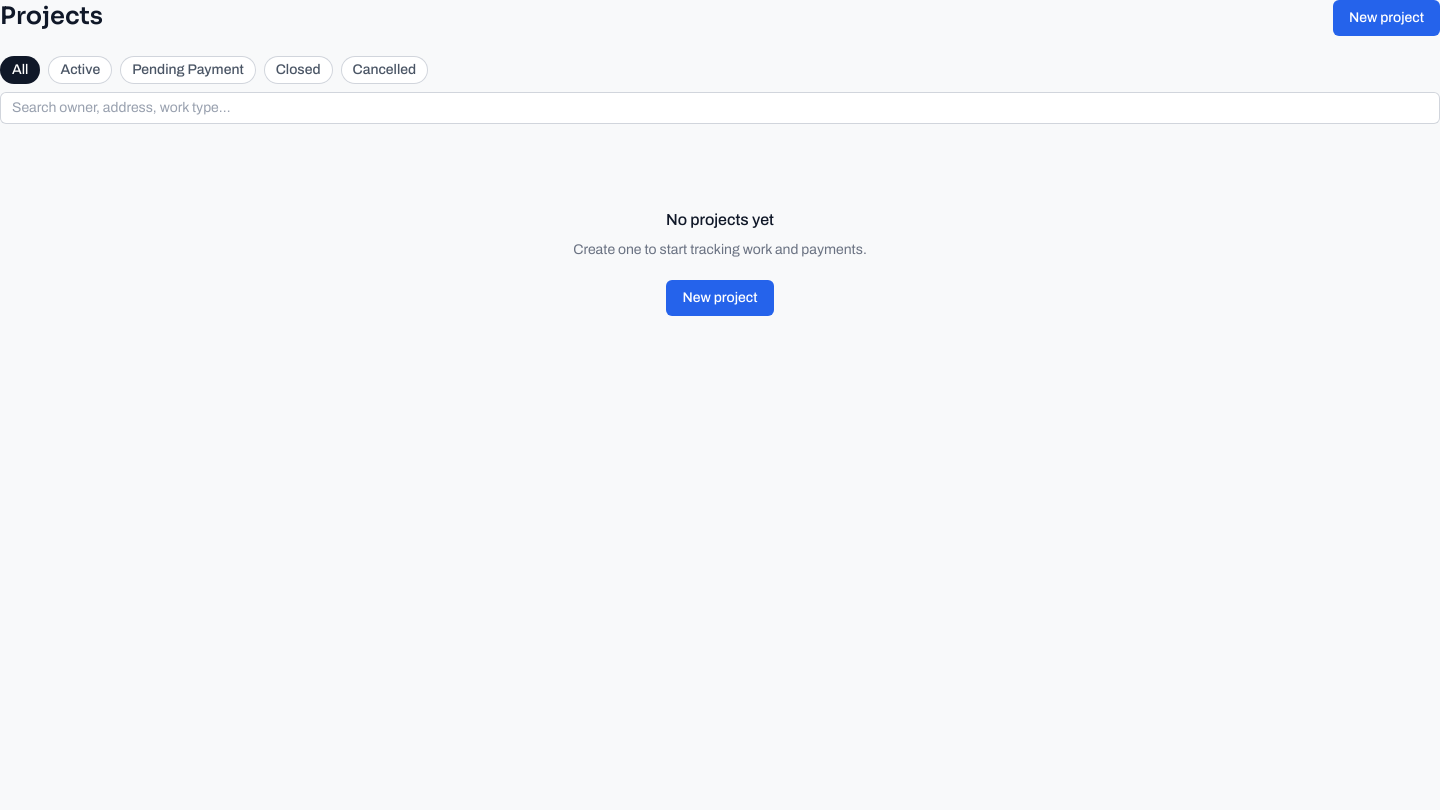
Test case: ProjectsListPage › creating › refuses a negative budget where it was typed
The width and height of the screenshot is (1440, 810).
Click the 1st button "New project": click(1386, 18) x1=1333 y1=0 x2=1439 y2=36
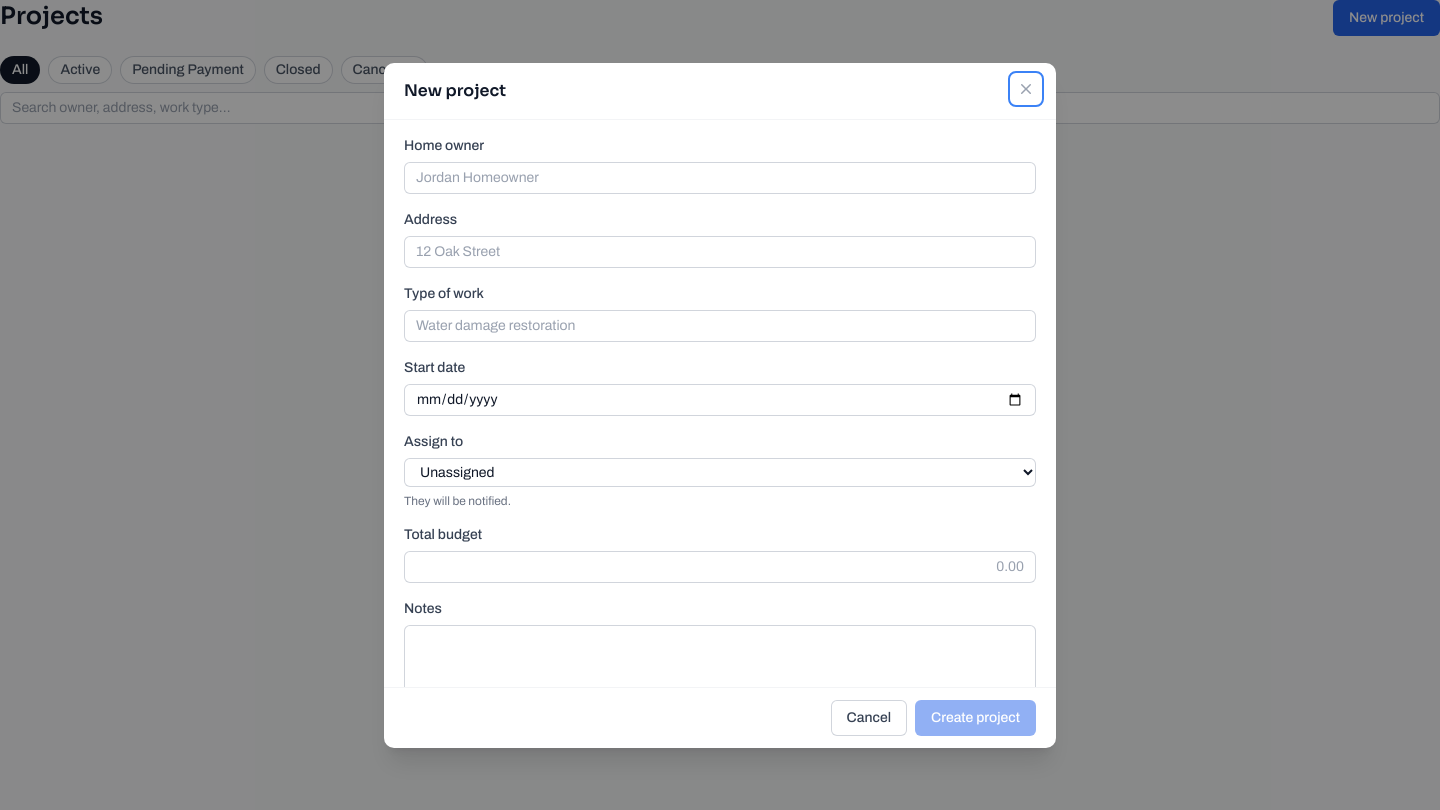
In the field labelled "Home owner": (720, 178) x1=404 y1=162 x2=1036 y2=194, type "Jordan"
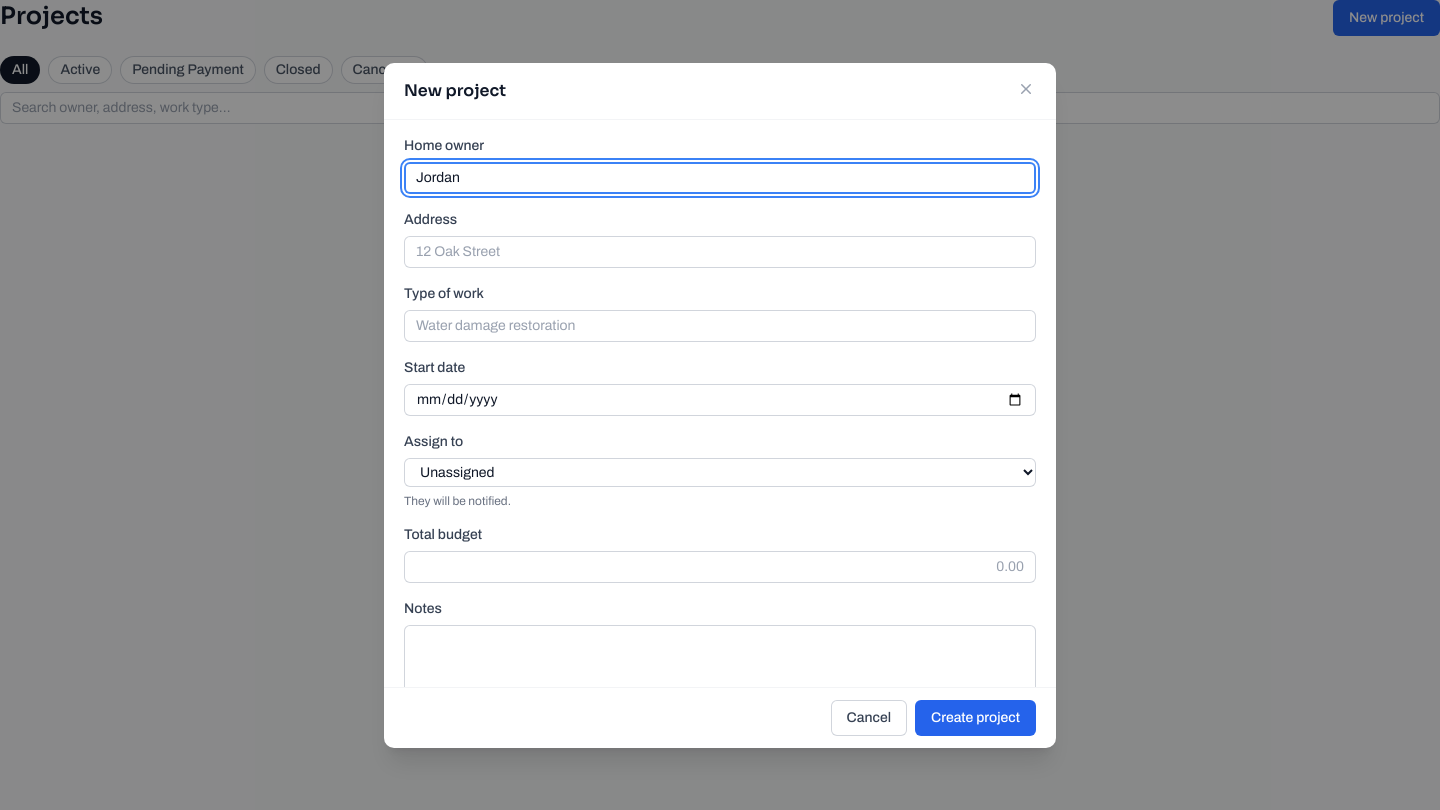
In the field labelled "Total budget": (720, 566) x1=404 y1=550 x2=1036 y2=582, type "-500"
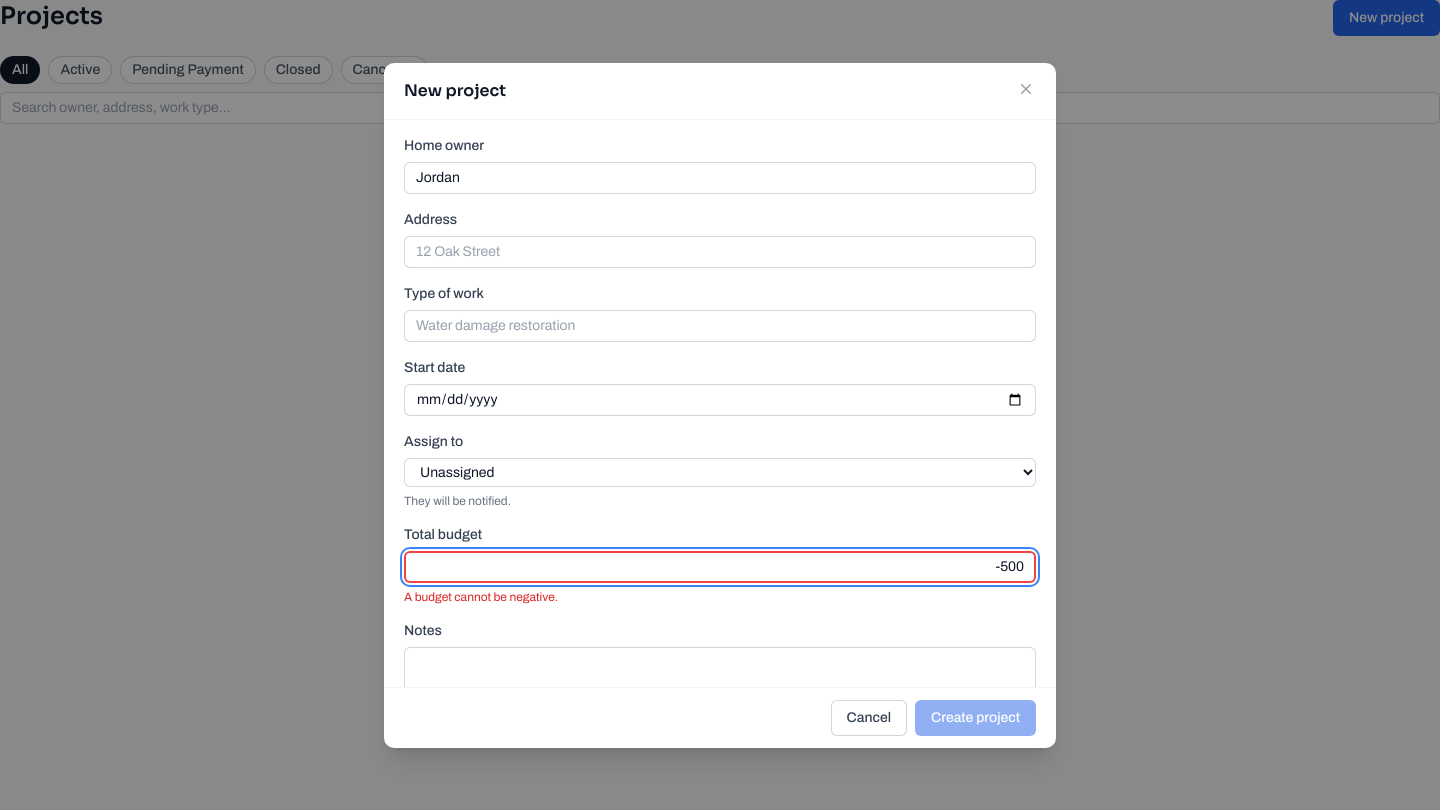
Check: the text "A budget cannot be negative." is shown, box x1=404 y1=590 x2=558 y2=604
Check: the button "Create project" is disabled, box x1=915 y1=700 x2=1036 y2=736
